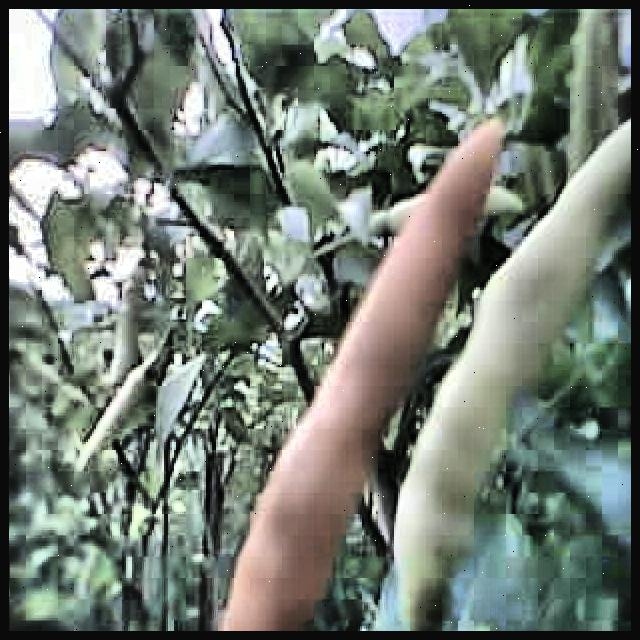Cabai: (258, 177, 381, 618)
